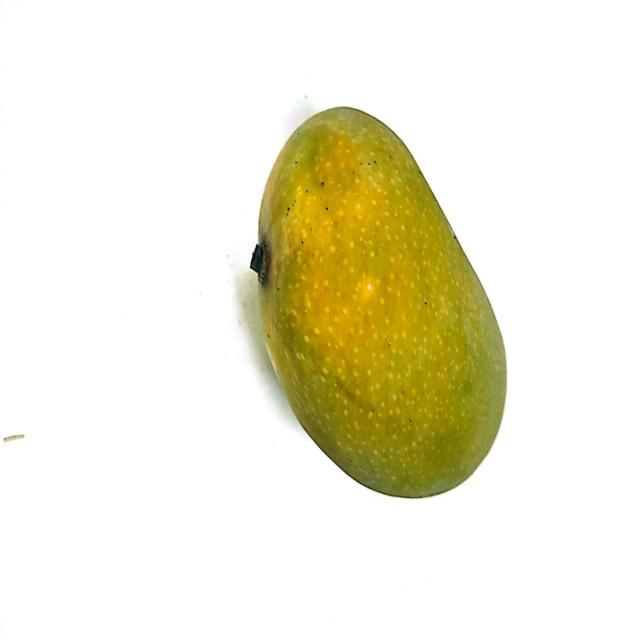fresh_mango: (252, 103, 508, 499)
